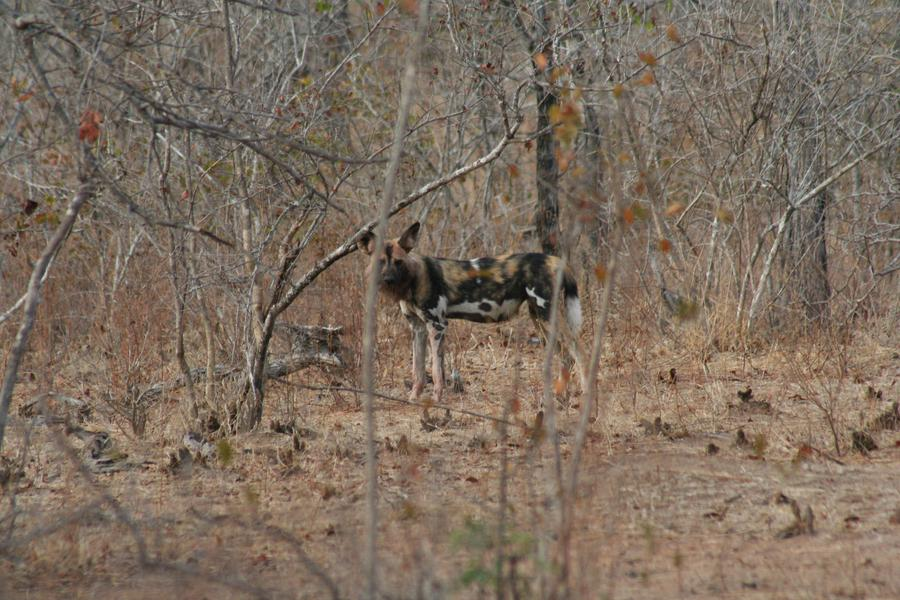wilddog: (363, 233, 586, 368)
